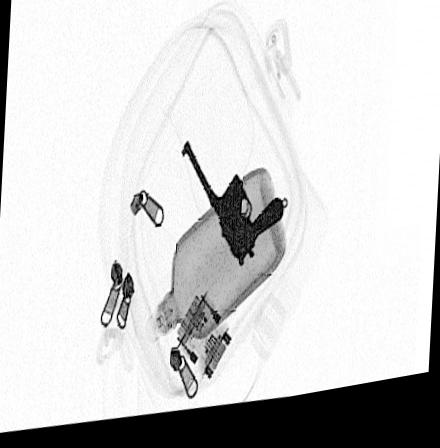Gun: (180, 145, 284, 279)
